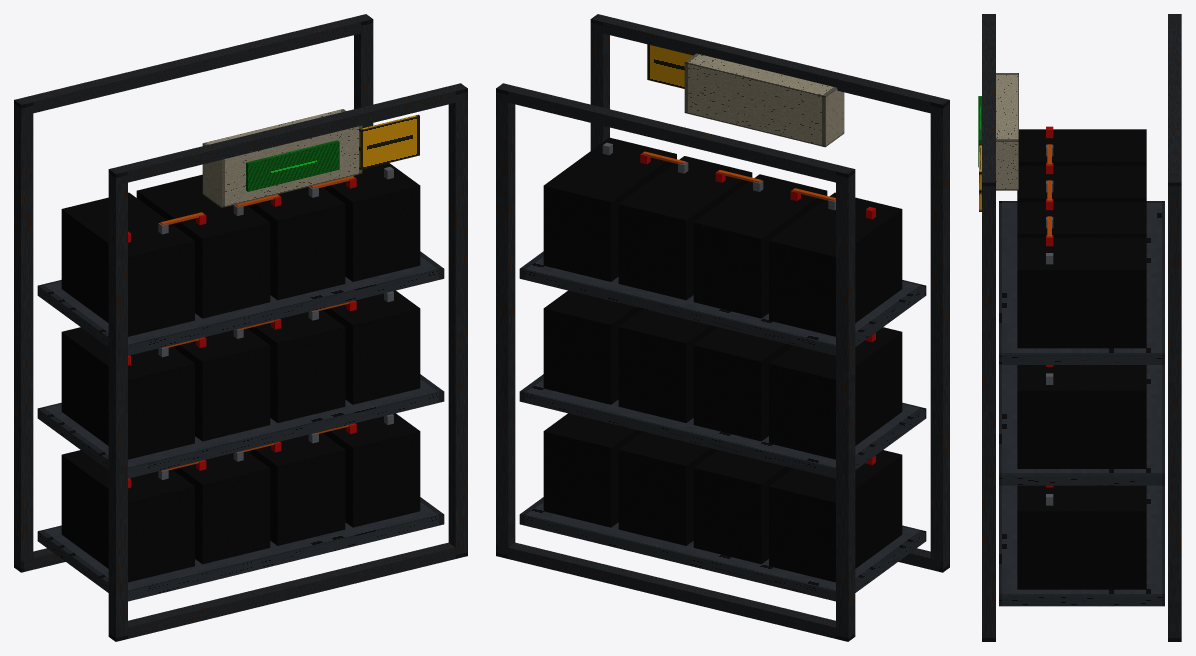
The model's file is battery_bank.glb.
3 renders of one model, left to right at view 1: azimuth 30°, elevation 25°; view 2: azimuth 150°, elevation 25°; view 3: azimuth 270°, elevation 25°, orthographic.
Visible parts, largest first — view 1: battery_bank; view 2: battery_bank; view 3: battery_bank.
Part boxes in pixels (x1=…): battery_bank: x1=14, y1=14, x2=467, y2=641; battery_bank: x1=496, y1=14, x2=949, y2=641; battery_bank: x1=978, y1=14, x2=1181, y2=641.
Bounding box in the file's own units: 1.3 × 1.65 × 0.6625.
1 material, 1 textured.
